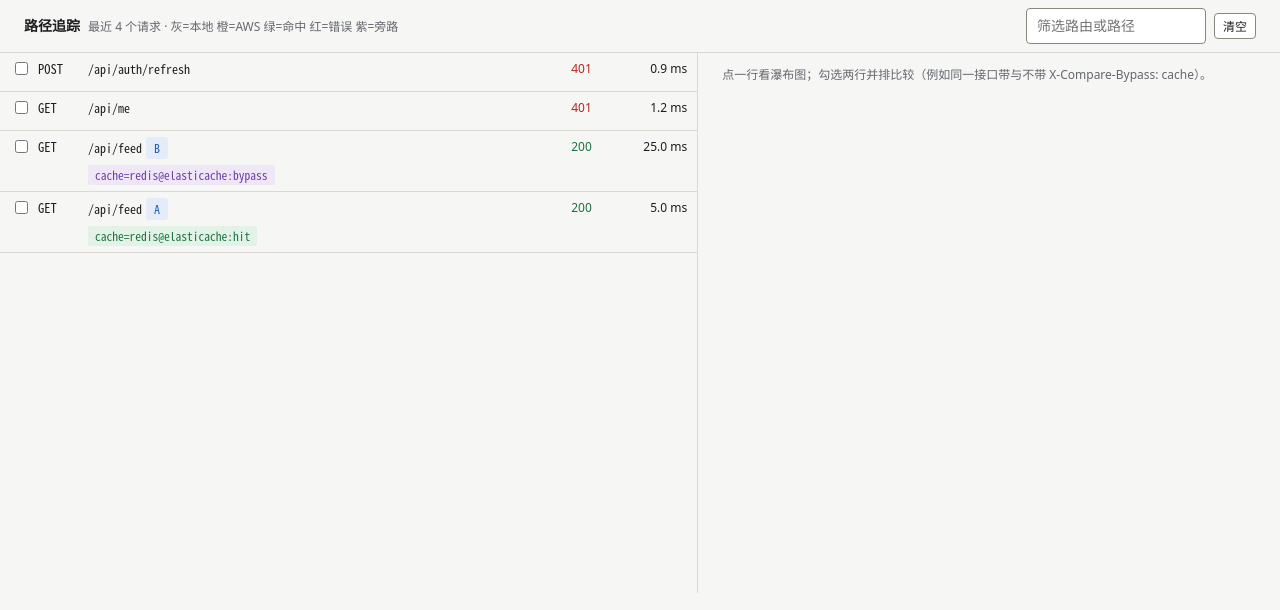
Test: TraceDrawer / TracePanel › 勾选两行进入两两对比
What coordinates should you click on to do the following:
click the 4th checkbox named "选中以对比"
I would click on:
 (22, 208)
Its box is [14,201,29,214].
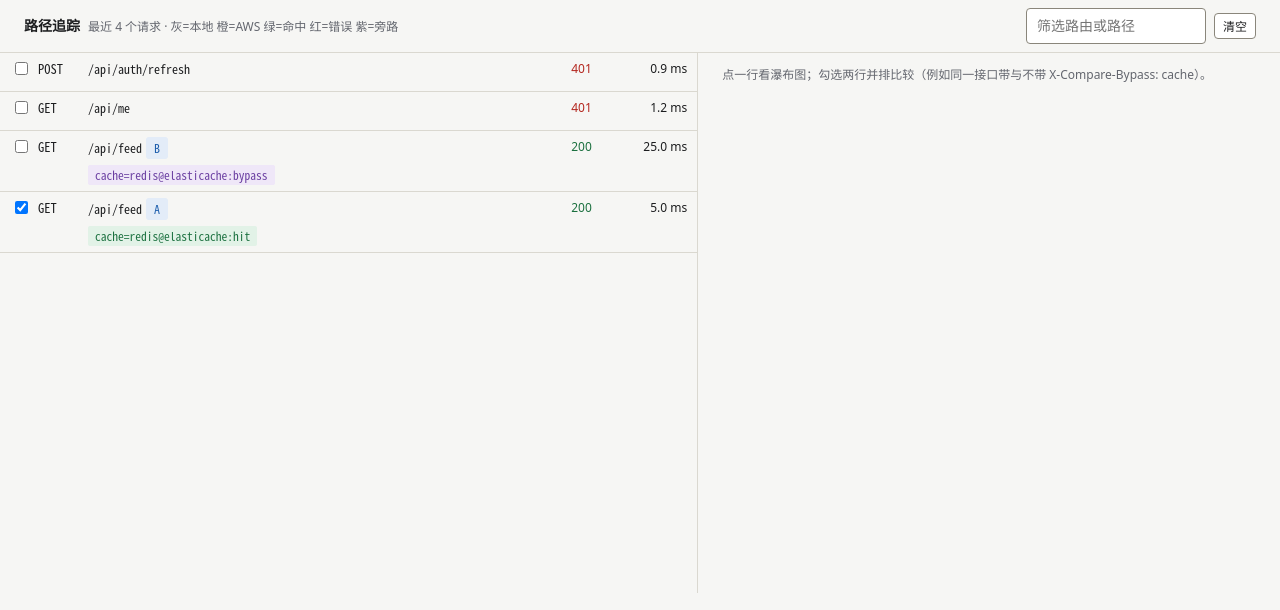
What coordinates should you click on to do the following:
click the checkbox named "选中以对比" in the row of "25.0"
I would click on:
 (22, 147)
Its box is [14,140,29,153].
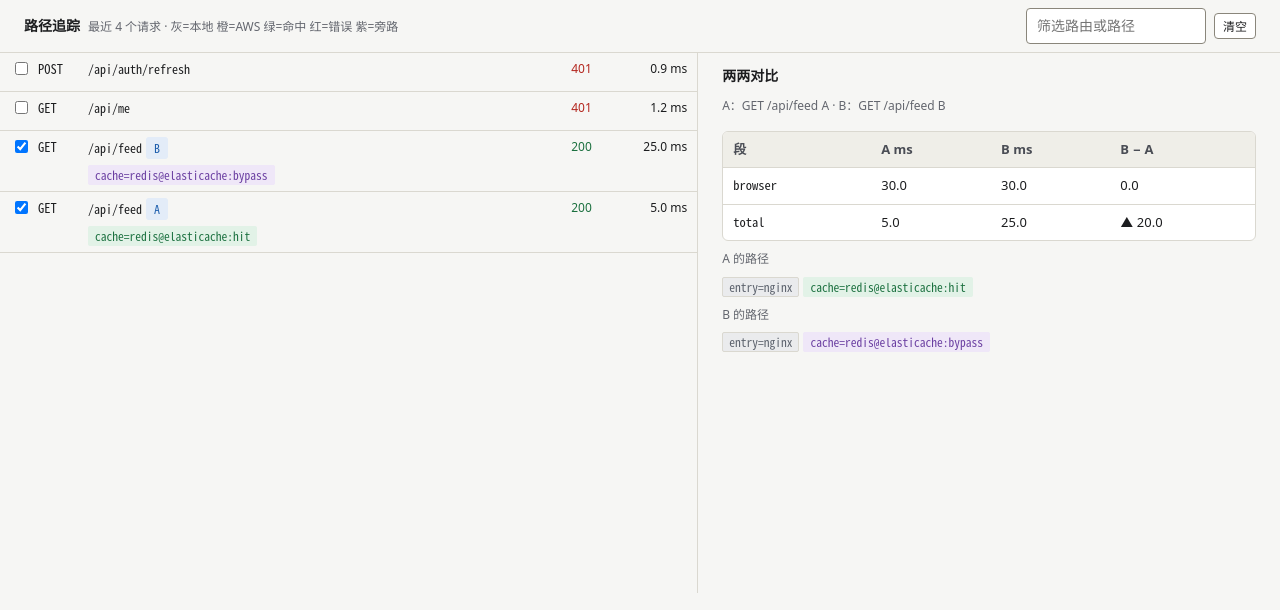
Check: the text "两两对比" is shown, box [722,66,778,85]
Check: the text "▲ 20.0" is shown, box [1110,204,1255,240]
